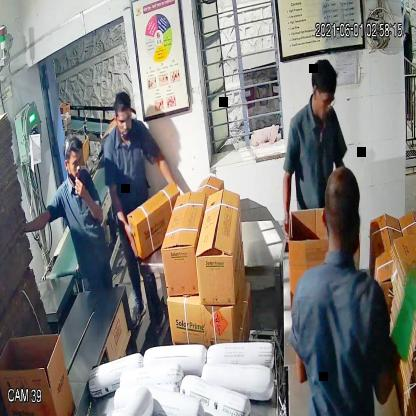no_goggles: (59, 151, 84, 173)
